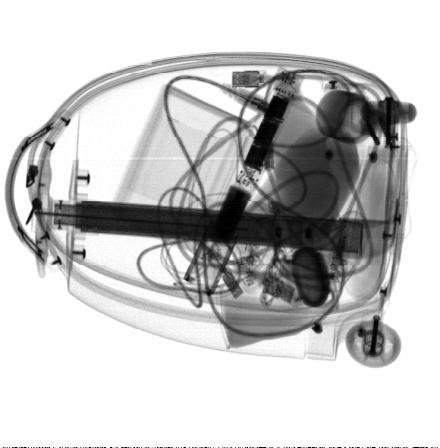Baton: (183, 65, 305, 298)
